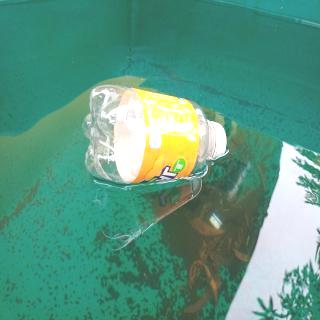bottle: (80, 83, 228, 188)
